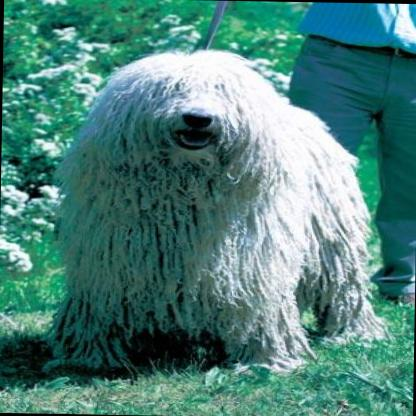komondor: (41, 43, 393, 388)
